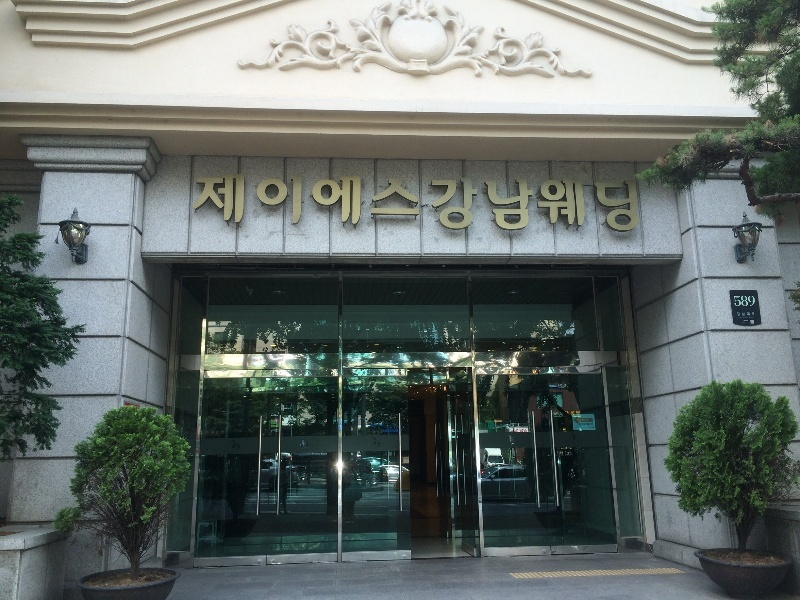text: (193, 175, 208, 235), (209, 175, 224, 235), (225, 175, 240, 235), (241, 175, 256, 235), (257, 175, 272, 235), (273, 175, 288, 235), (289, 175, 304, 235), (305, 175, 320, 235), (321, 175, 336, 235), (337, 175, 352, 235), (353, 175, 368, 235), (369, 175, 384, 235), (385, 175, 400, 235), (401, 175, 416, 235), (417, 175, 432, 235), (433, 175, 448, 235), (449, 175, 464, 235), (465, 175, 480, 235), (481, 175, 496, 235), (497, 175, 512, 235), (513, 175, 528, 235), (529, 175, 544, 235), (545, 175, 560, 235), (561, 175, 576, 235), (577, 175, 592, 235), (593, 175, 608, 235), (609, 175, 624, 235), (625, 175, 640, 235), (737, 296, 752, 306), (372, 437, 384, 449), (196, 441, 208, 451), (231, 440, 240, 451), (737, 312, 752, 316), (641, 175, 642, 235), (566, 411, 576, 416), (300, 439, 304, 449), (305, 439, 309, 449), (519, 429, 528, 433), (580, 423, 592, 426), (582, 418, 592, 421), (739, 317, 752, 319), (513, 428, 518, 433), (552, 413, 560, 416), (509, 435, 512, 443), (734, 296, 736, 306), (753, 296, 755, 306), (742, 322, 752, 324), (513, 435, 515, 443), (577, 411, 580, 416), (510, 428, 512, 433), (588, 427, 592, 429), (753, 312, 755, 316), (744, 320, 752, 321), (561, 413, 563, 416), (749, 317, 752, 319), (593, 427, 595, 429), (753, 317, 755, 319), (593, 423, 594, 426)
